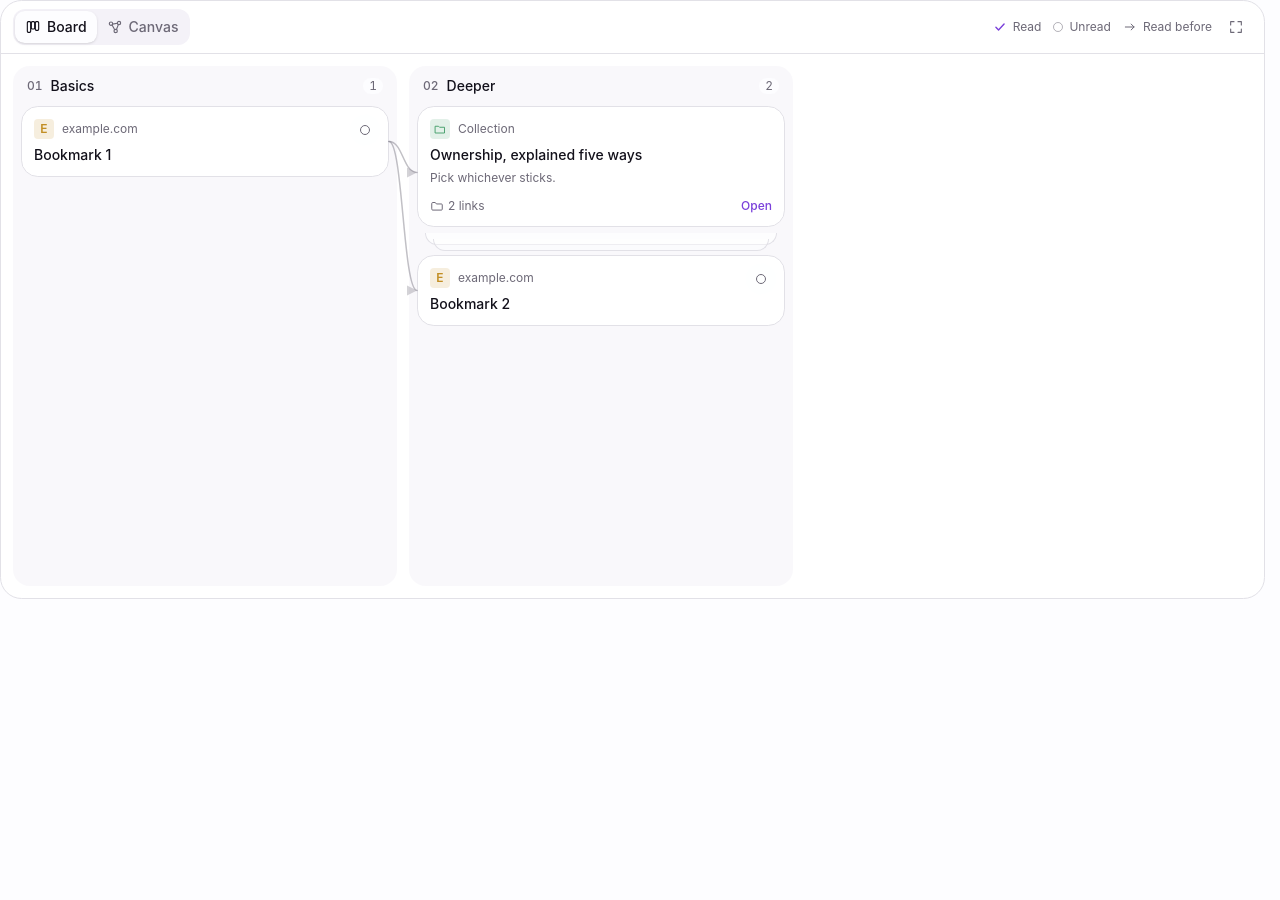
Test: GraphView › opens a bookmark sheet from a node, with the URL only inside the sheet
This screenshot has width=1280, height=900.
Click the button "E example.com Bookmark 1" at (100,128), box [21,106,389,177]
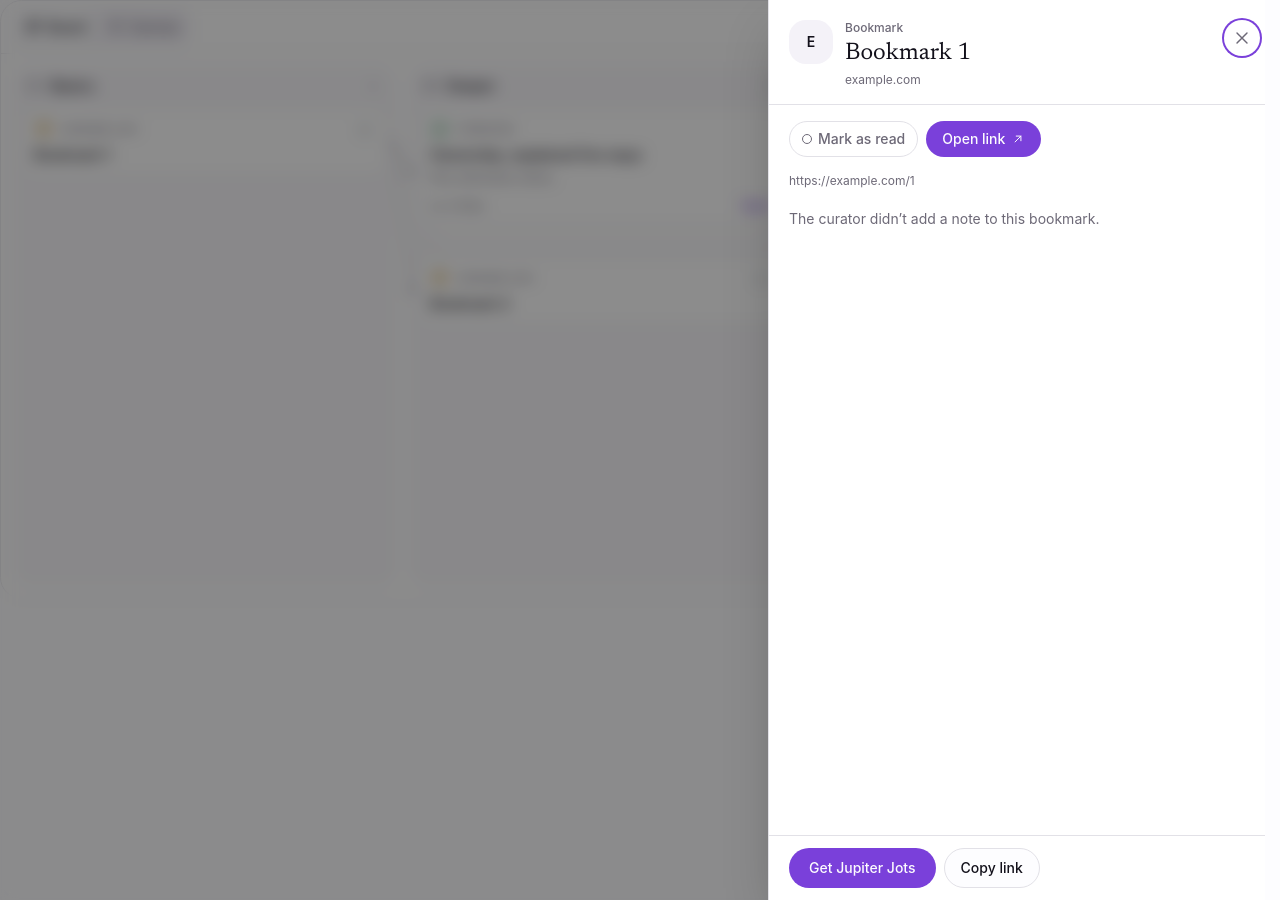
expect the dialog shows "Bookmark 1": met, box [845,41,971,65]
